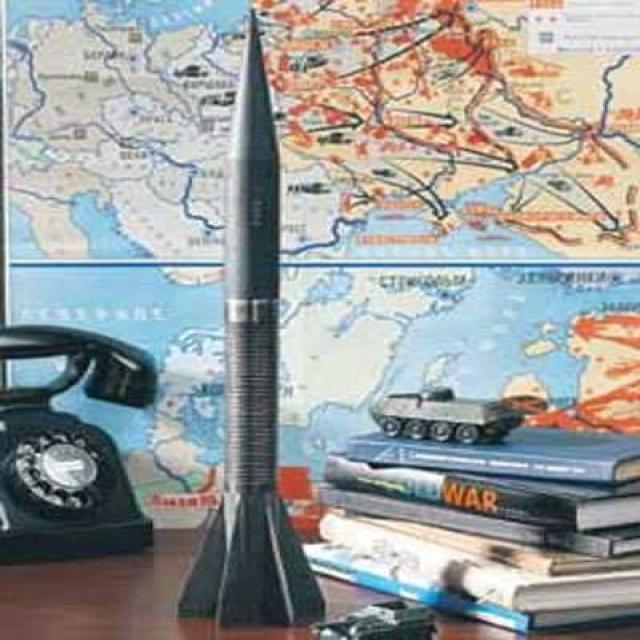missile: (174, 6, 330, 640)
